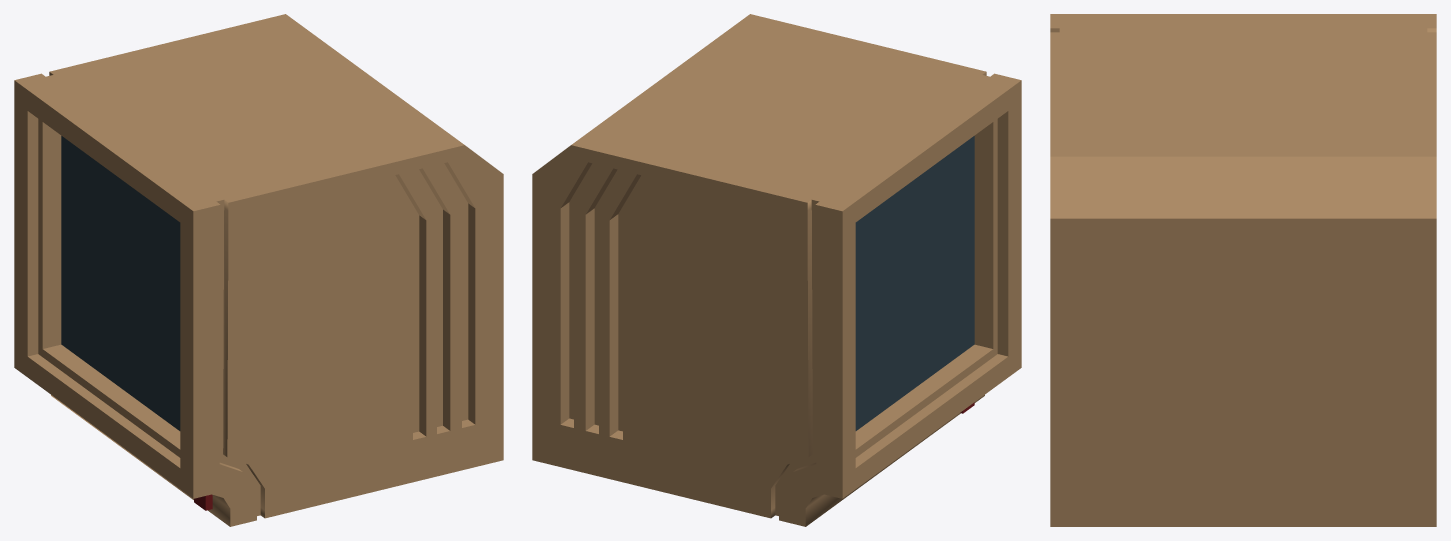
Rendered from monitor_tier2.fbx.
3 renders of one model, left to right at view 1: azimuth 30°, elevation 25°; view 2: azimuth 150°, elevation 25°; view 3: azimuth 270°, elevation 25°, orthographic. The views are drawn at different scales.
Parts seen in each view (by area): view 1: Cube.002; view 2: Cube.002; view 3: Cube.002.
Part boxes in pixels (box(x1,y1,x2,y2)): Cube.002: box(14, 14, 503, 526); Cube.002: box(532, 14, 1021, 526); Cube.002: box(1050, 14, 1436, 526).
Size of the model in its own units: 0.6412 by 0.6412 by 0.6415.
